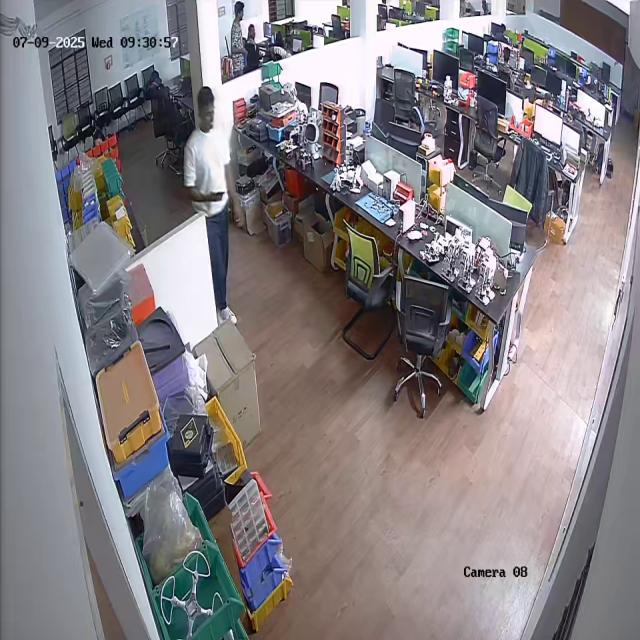person: (186, 84, 243, 326)
